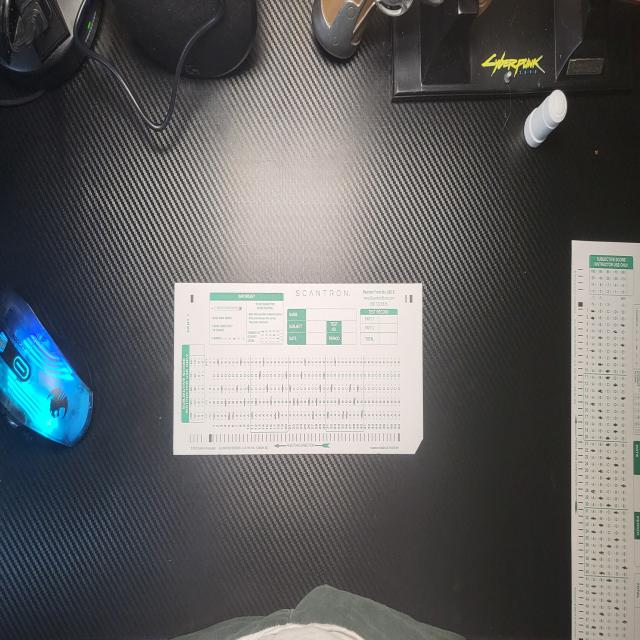scantron: (173, 282, 424, 455)
